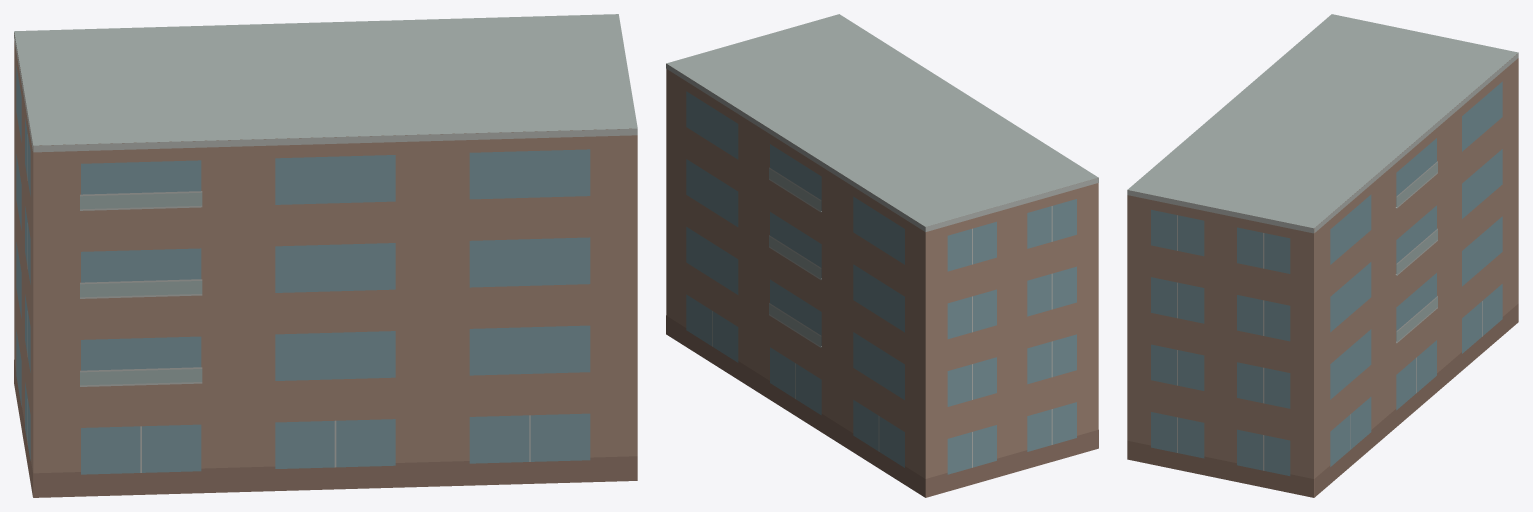
The model's file is survey-upis-32696217.glb.
The picture shows the model from 3 angles, left to right: view 1: azimuth 30°, elevation 25°; view 2: azimuth 150°, elevation 25°; view 3: azimuth 270°, elevation 25°; orthographic projection. The views are drawn at different scales.
Visible parts, largest first — view 1: survey-upis-32696217.tmp; view 2: survey-upis-32696217.tmp; view 3: survey-upis-32696217.tmp.
Boxes of the visible parts, <box> form: survey-upis-32696217.tmp: <box>14,14,637,497</box>; survey-upis-32696217.tmp: <box>666,14,1098,497</box>; survey-upis-32696217.tmp: <box>1127,14,1518,497</box>.
Size of the model in its own units: 21.67 by 12.7 by 16.72.
